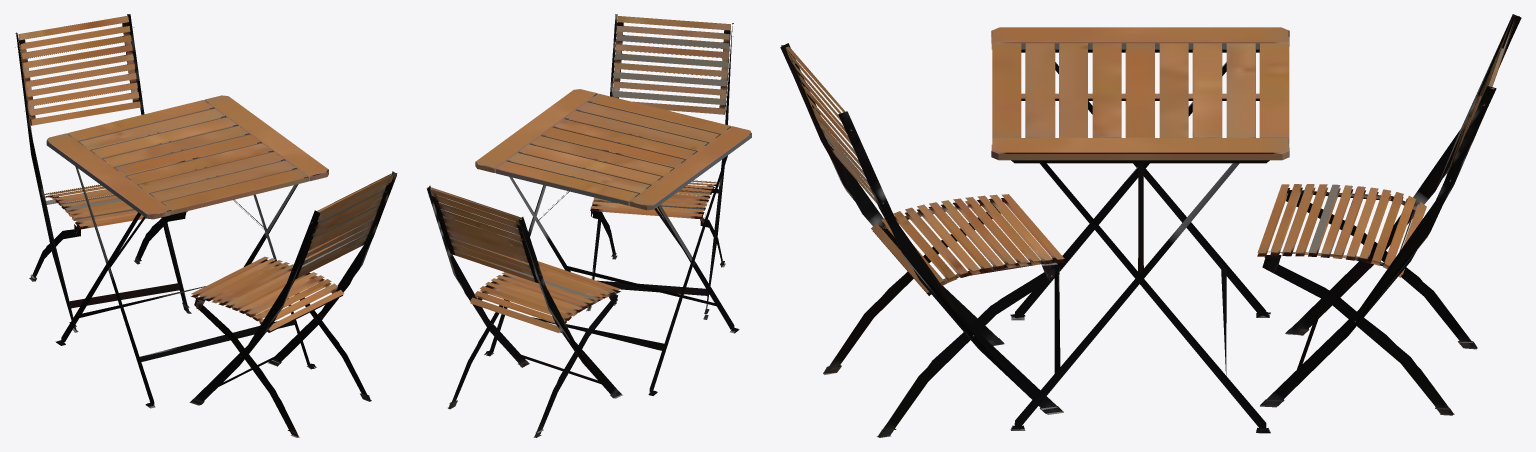
Rendered from detail_cafeSet.glb.
3 renders of one model, left to right at view 1: azimuth 30°, elevation 25°; view 2: azimuth 150°, elevation 25°; view 3: azimuth 270°, elevation 25°, orthographic. The views are drawn at different scales.
Parts seen in each view (by area): view 1: detail_cafeSet_LOD0; view 2: detail_cafeSet_LOD0; view 3: detail_cafeSet_LOD0.
Part boxes in pixels (bbox=[...]): detail_cafeSet_LOD0: bbox=[15, 14, 397, 437]; detail_cafeSet_LOD0: bbox=[426, 14, 751, 437]; detail_cafeSet_LOD0: bbox=[780, 14, 1521, 437].
Size of what is drawn, in the model's own units: 0.7412 by 0.8553 by 1.72.
Materials: 1 (1 with a texture image).
